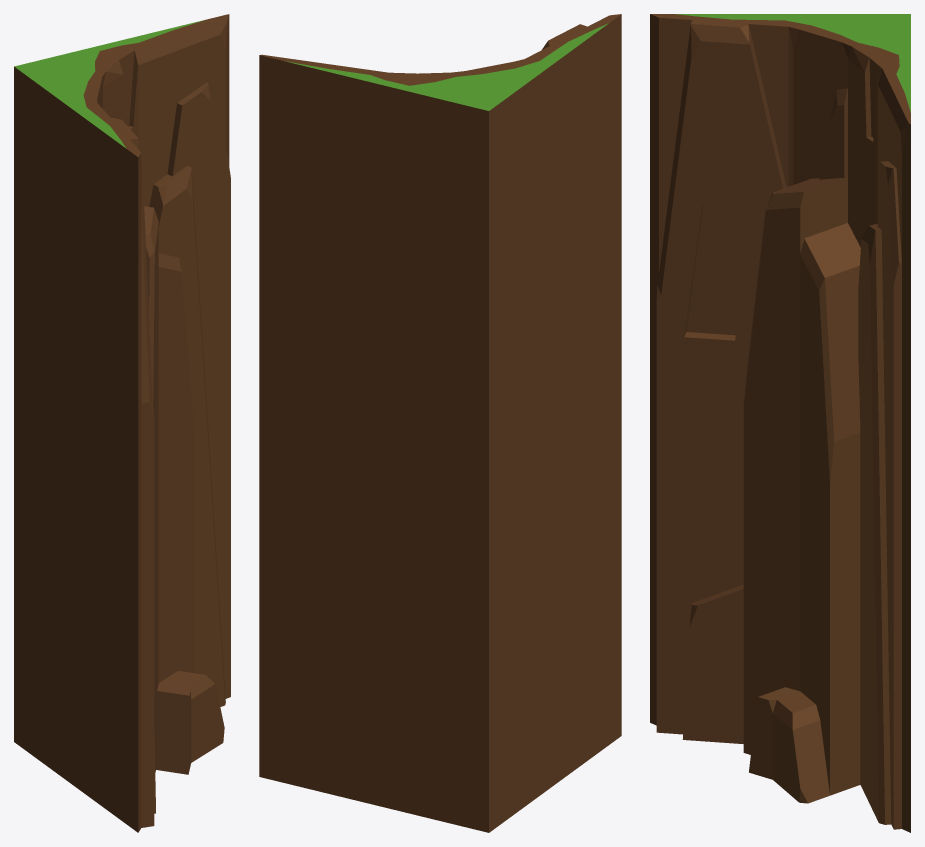
File: Cliff x3 5.fbx
The picture shows the model from 3 angles, left to right: view 1: azimuth 30°, elevation 25°; view 2: azimuth 150°, elevation 25°; view 3: azimuth 270°, elevation 25°; orthographic projection. The views are drawn at different scales.
Visible parts, largest first — view 1: Cliff x3 5; view 2: Cliff x3 5; view 3: Cliff x3 5.
Boxes of the visible parts, x1,y1,x2,y2 form: Cliff x3 5: (14, 14, 230, 832); Cliff x3 5: (259, 14, 621, 832); Cliff x3 5: (650, 14, 910, 832).
Bounding box in the file's own units: 200 × 600 × 200.
